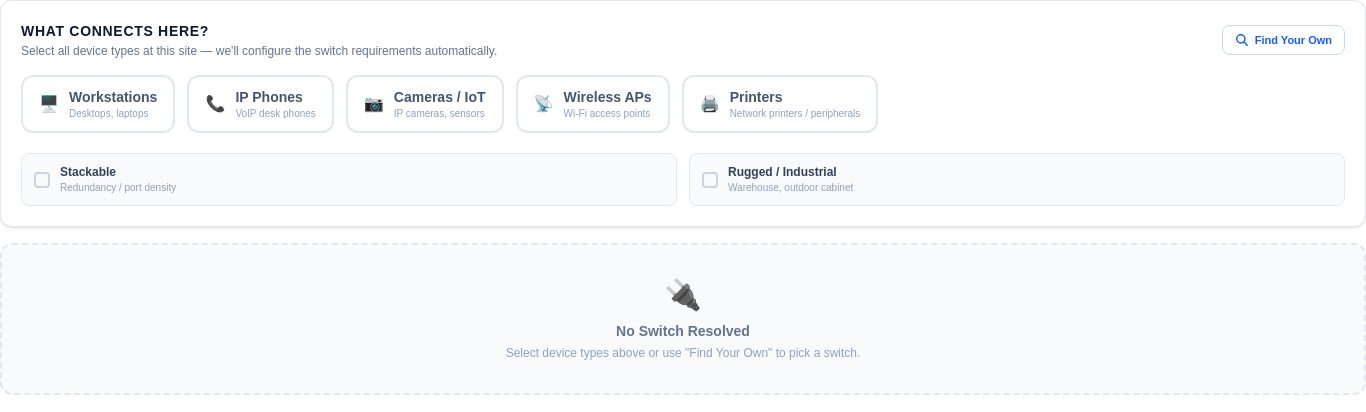
Test case: LANTab Features › selecting an intent chip updates the inferred requirements
This screenshot has width=1366, height=412.
# Click "IP Phones" chip
What coordinates should you click on to do the following:
click the button "📞 IP Phones VoIP desk phones"
I would click on:
 (261, 104)
Its box is [187,75,334,133].
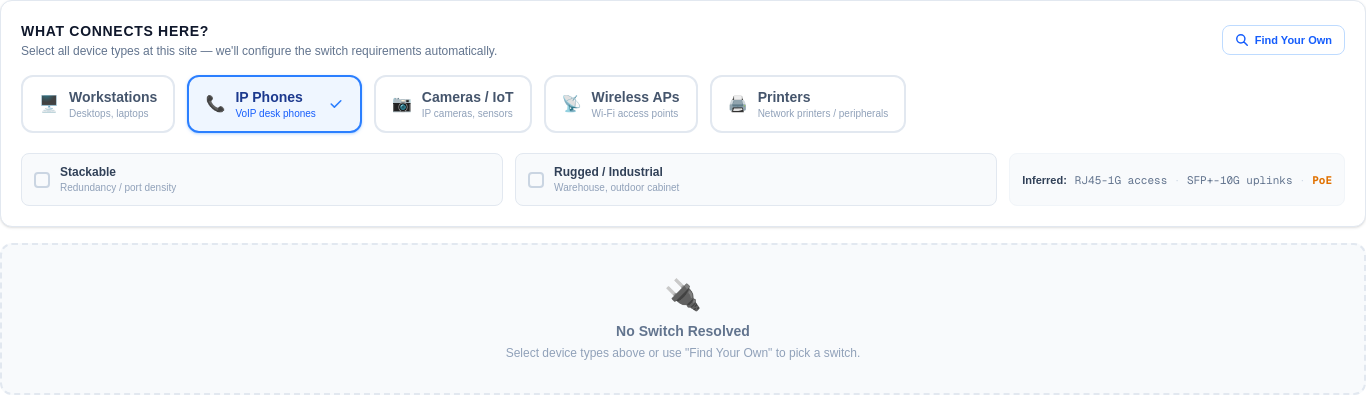
Now the text "PoE" is shown, box [1312,172,1332,188]
